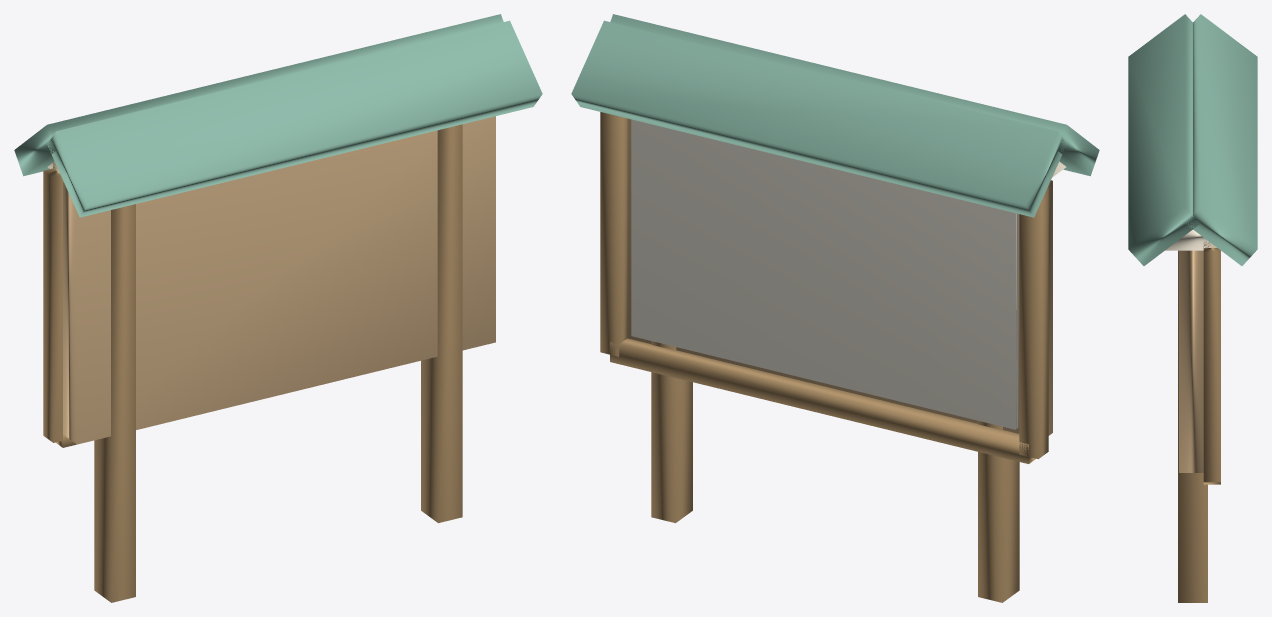
Rendered from map_low.glb.
The picture shows the model from 3 angles, left to right: view 1: azimuth 30°, elevation 25°; view 2: azimuth 150°, elevation 25°; view 3: azimuth 270°, elevation 25°; orthographic projection. The views are drawn at different scales.
Bounding box in the file's own units: 2.6 × 2.63 × 0.7395.
